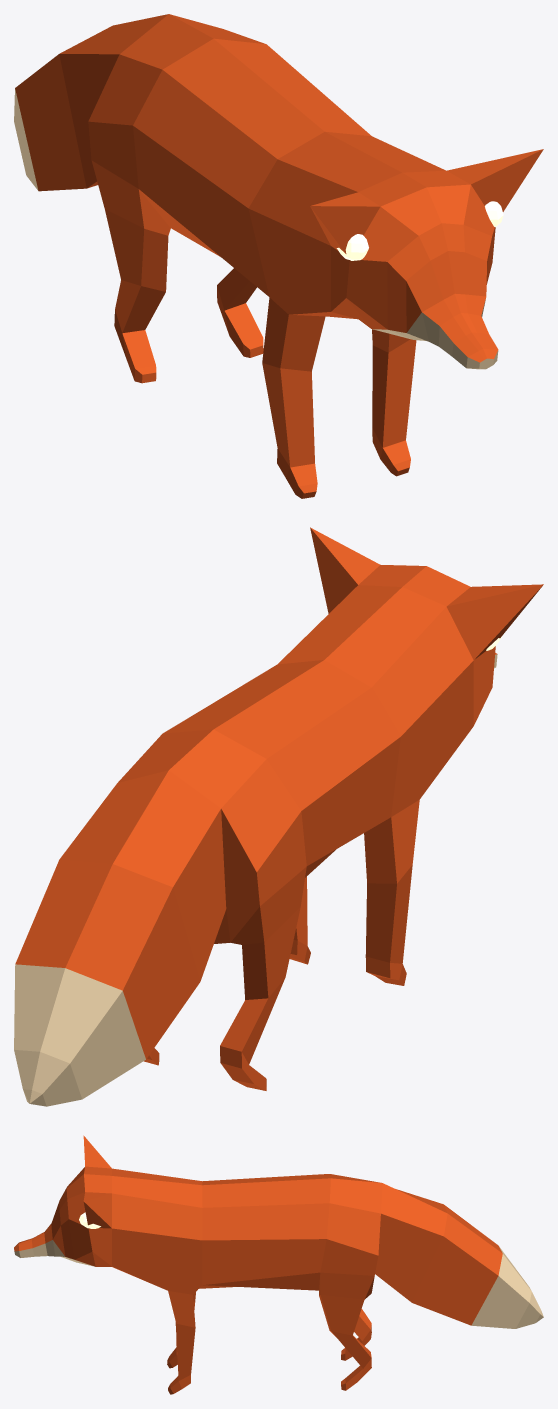
File: EmberFox.fbx
The picture shows the model from 3 angles, top to bottom: view 1: azimuth 30°, elevation 25°; view 2: azimuth 150°, elevation 25°; view 3: azimuth 270°, elevation 25°; orthographic projection. The views are drawn at different scales.
Parts seen in each view (by area): view 1: Body, Head, LegBL, LegFL, LegFR, LegBR, Glow_ffec5a; view 2: Body, Head, LegBL, LegFL, LegFR; view 3: Body, Head, LegBR, LegFR, LegBL.
Part boxes in pixels (bbox=[...]): Body: bbox=[14, 14, 410, 371]; Head: bbox=[248, 131, 543, 369]; LegBL: bbox=[91, 160, 170, 383]; LegFL: bbox=[262, 363, 317, 498]; LegFR: bbox=[372, 329, 416, 476]; LegBR: bbox=[217, 268, 263, 357]; Glow_ffec5a: bbox=[336, 201, 503, 260]; Body: bbox=[14, 660, 473, 1106]; Head: bbox=[278, 527, 543, 735]; LegBL: bbox=[220, 867, 306, 1090]; LegFL: bbox=[364, 817, 412, 985]; LegFR: bbox=[289, 876, 310, 964]; Body: bbox=[112, 1174, 543, 1328]; Head: bbox=[14, 1135, 202, 1286]; LegBR: bbox=[203, 1239, 378, 1390]; LegFR: bbox=[168, 1321, 195, 1394]; LegBL: bbox=[341, 1309, 371, 1360].
Bounding box in the file's own units: 1.3 × 1.93 × 4.4.
Materials: 2 (1 with a texture image).
